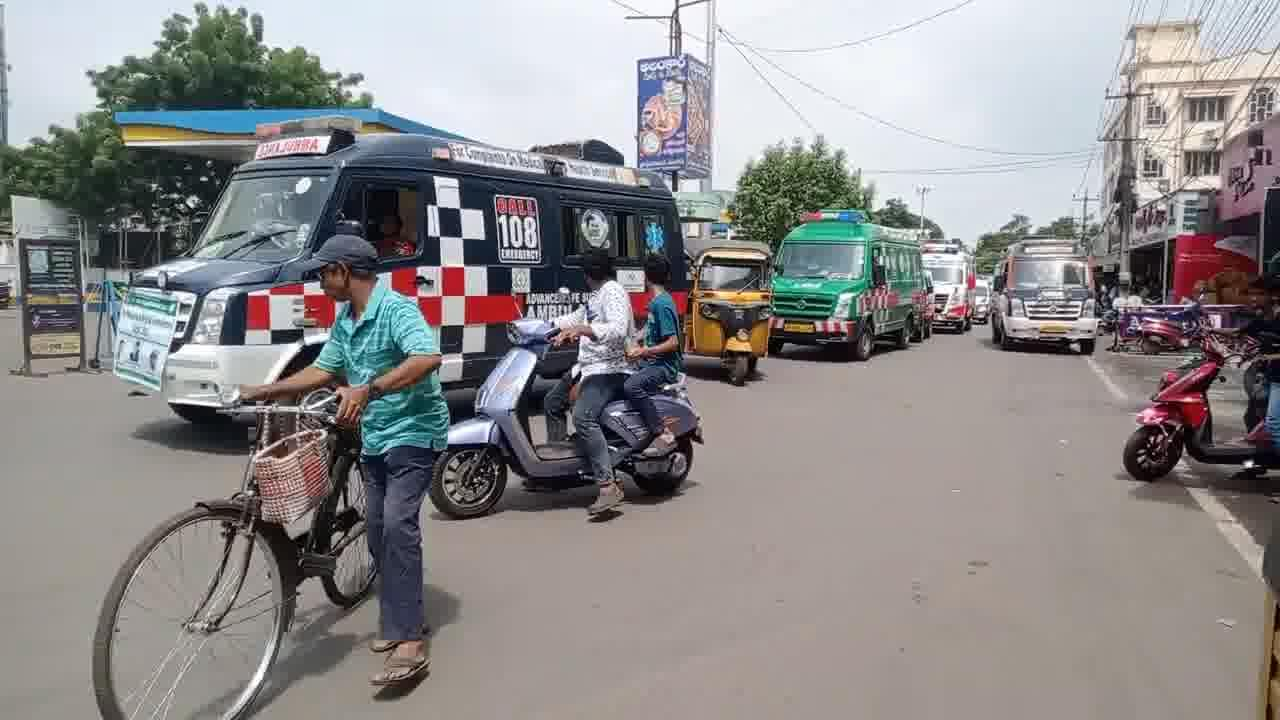AMBULANCE: (98, 114, 671, 404), (767, 210, 927, 360), (999, 230, 1102, 346), (927, 242, 979, 330)
